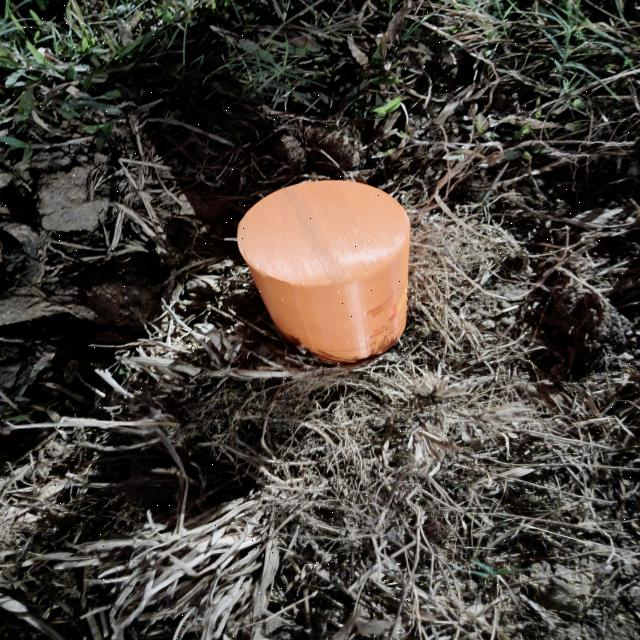Cylinder: (235, 179, 411, 364)
